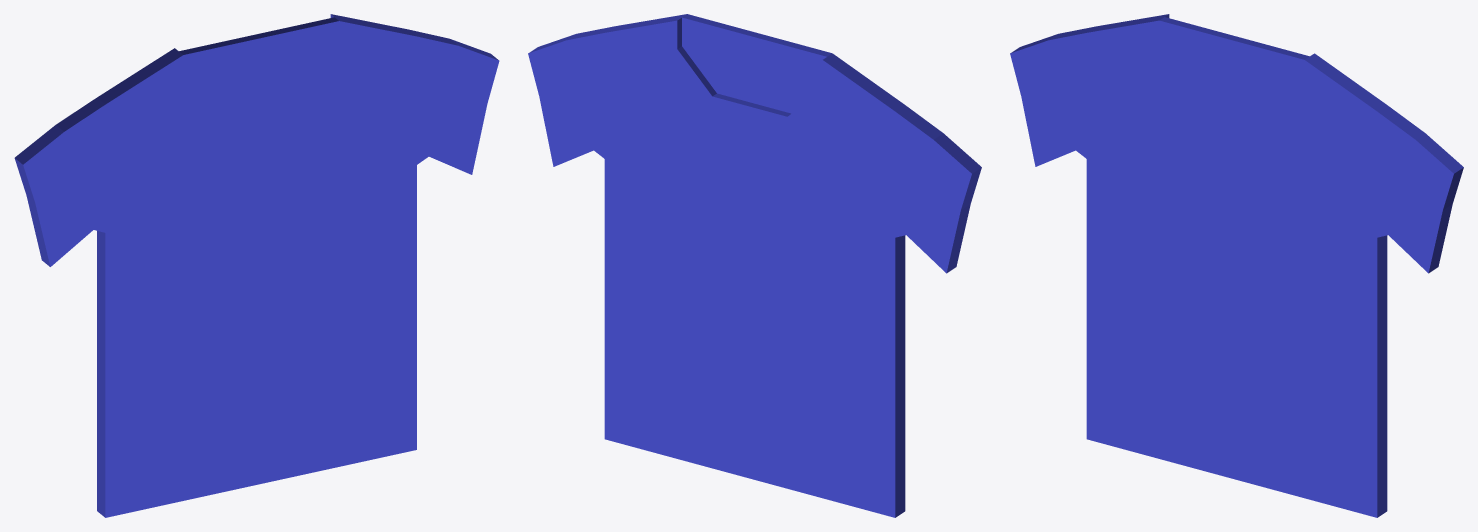
Rendered from Shirt 10.fbx.
3 views of the same model, side by side, from view 1: azimuth 30°, elevation 25°; view 2: azimuth 150°, elevation 25°; view 3: azimuth 330°, elevation 25° (orthographic).
Parts seen in each view (by area): view 1: Shirt; view 2: Shirt; view 3: Shirt.
Part boxes in pixels (x1,y1,x2,y2): Shirt: (14,14,499,517); Shirt: (528,14,981,517); Shirt: (1010,14,1463,517).
Size of the model in its own units: 0.0718 by 0.8112 by 0.8849.
